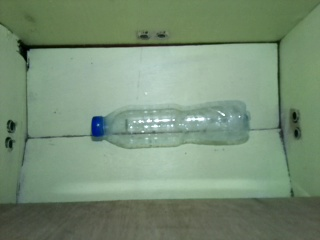bottle: (86, 100, 251, 150)
